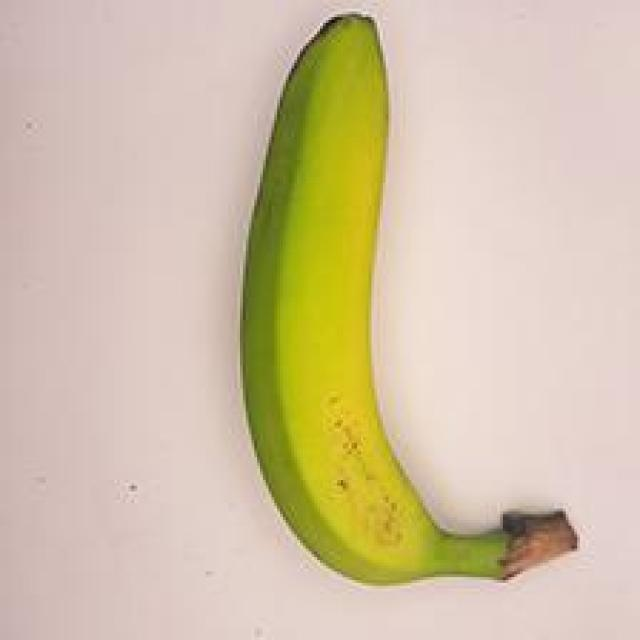Unripe: (209, 0, 597, 589)
